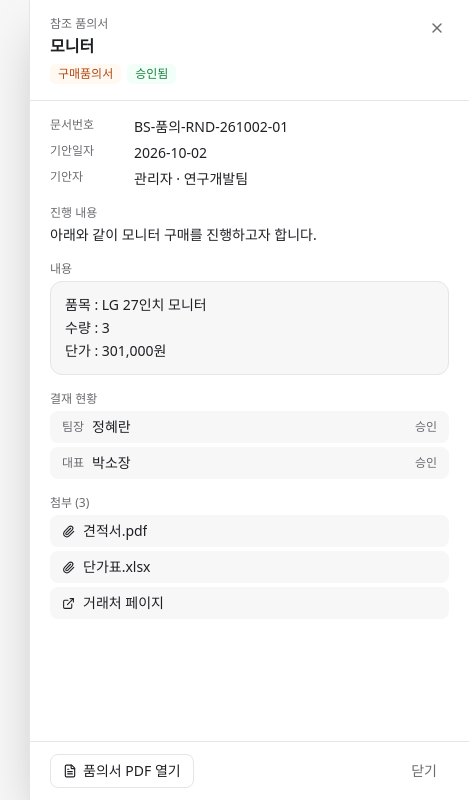
it: 참조 품의서 패널 › 열지 못하면 이유를 알린다
Click the button "품의서 PDF 열기" at (122, 771), box [50,754,194,788]
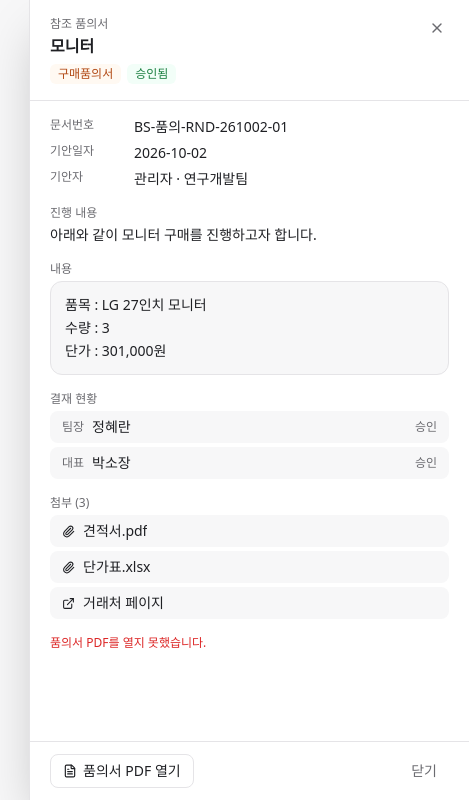
Result: the message reads "품의서 PDF를 열지 못했습니다." at [50,634,206,651]
